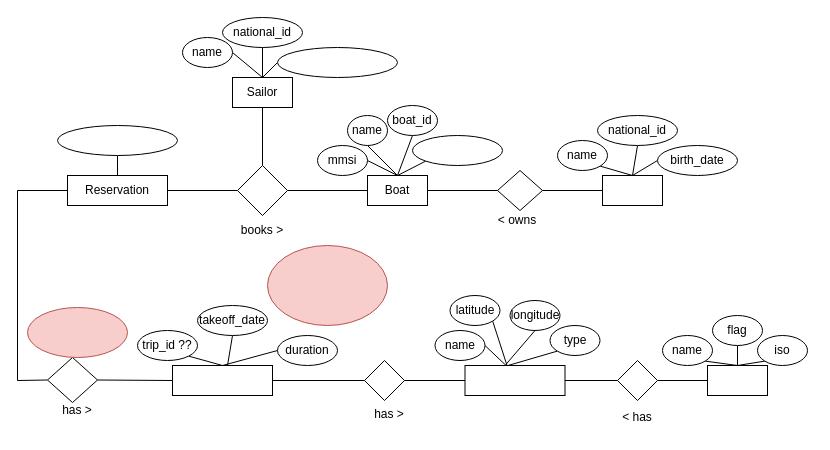
Image size: 830x450. Some labels were removed from this diagram. The box of each missing label's shape, as (x1, y1, x2, y2) in pixels:
Country: (706, 364, 768, 396)
Location: (464, 364, 565, 396)
Owner: (602, 174, 662, 206)
reservation_id???: (26, 306, 128, 358)
reservatoin_id: (56, 124, 178, 156)
sail_on_weekends: (276, 46, 398, 78)
start e end location??: (266, 244, 388, 326)
Trip: (172, 364, 272, 396)
year_of_reg: (412, 134, 502, 166)
